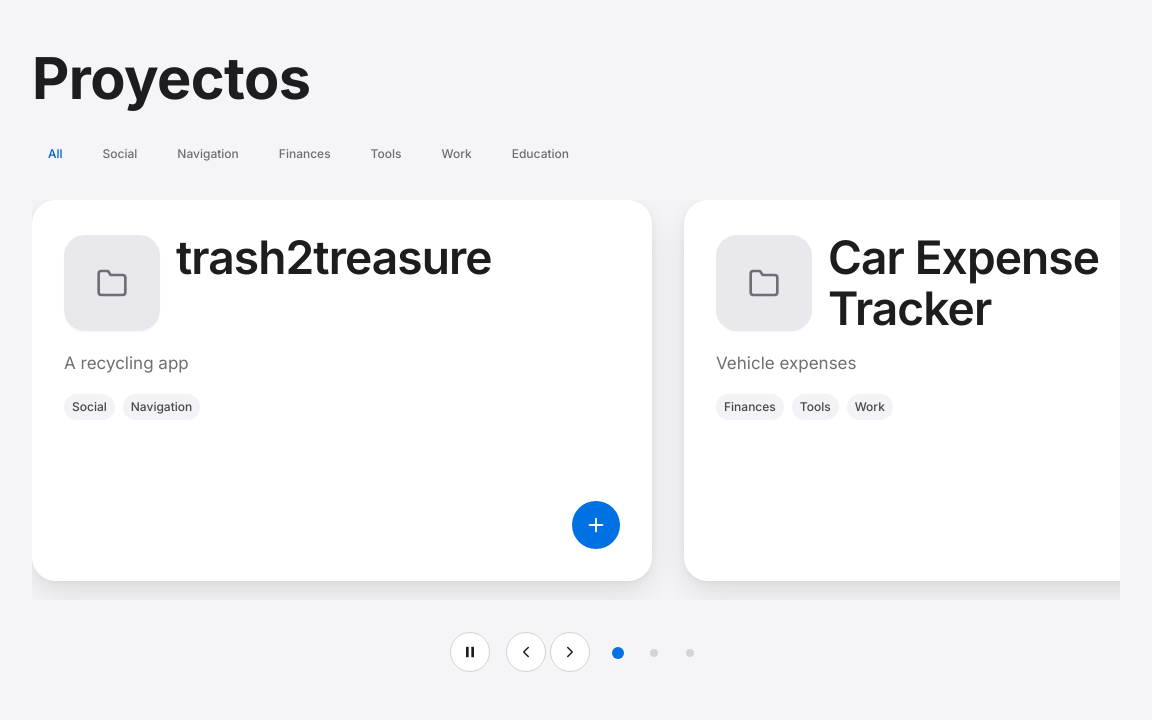
it: Projects › filters the list by category without reloading the page
The image size is (1152, 720).
Click the button "Finances": (305, 154) [263,132,347,176]
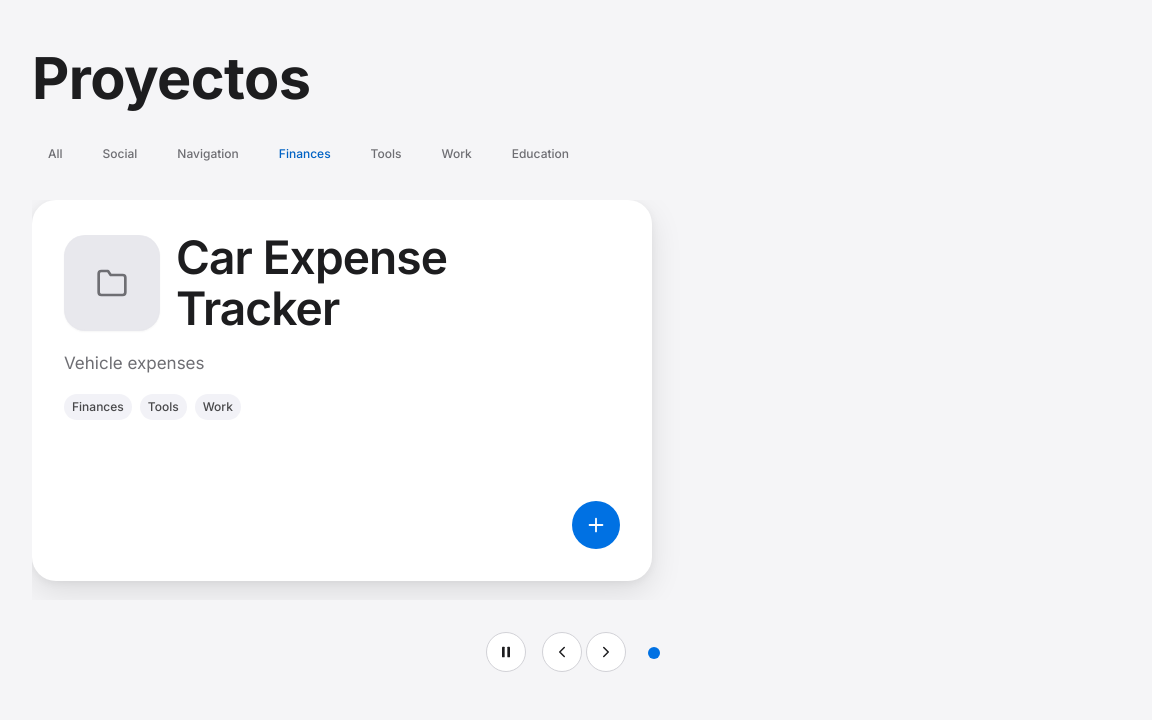
Expected: the heading "Car Expense Tracker" is shown, [176,230,447,336]
Click the button "Education": (540, 154) [496,132,585,176]
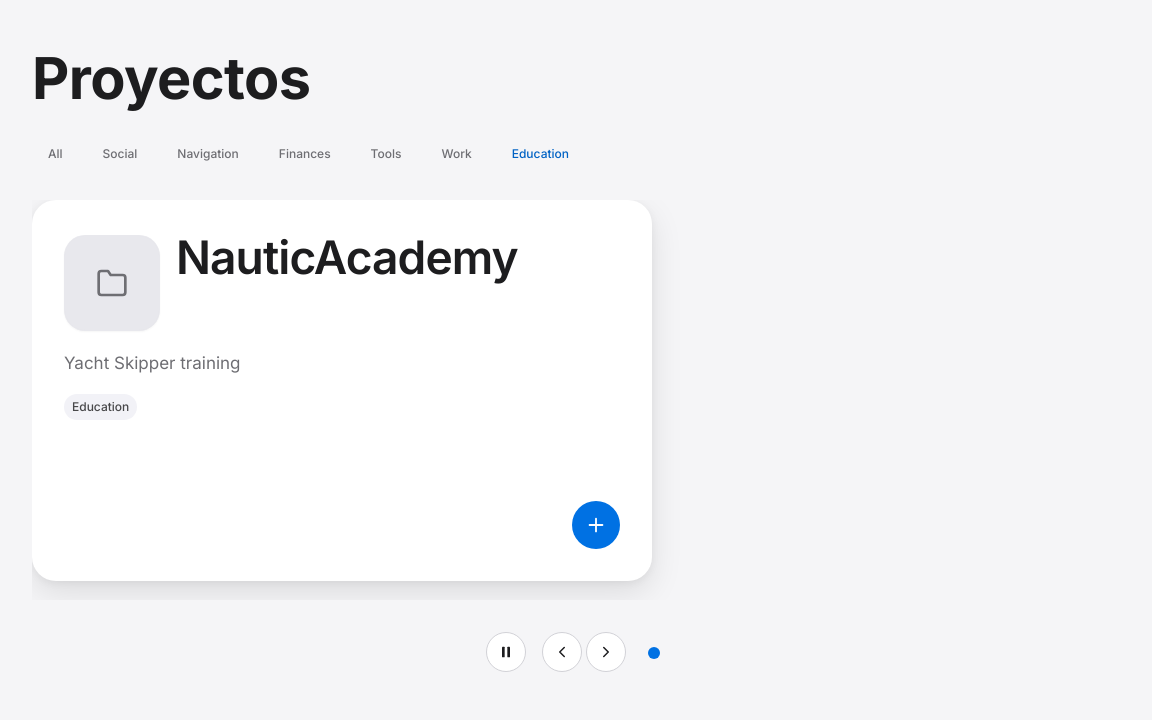
Expected: the heading "NauticAcademy" is shown, [176,230,518,286]
